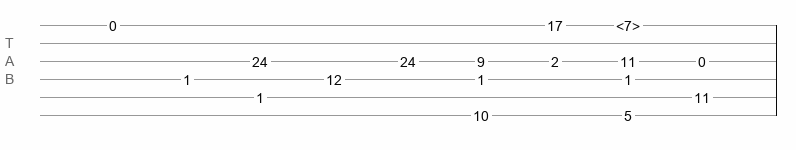0: (109, 18, 117, 28), (698, 54, 706, 64)
1: (183, 72, 191, 82), (256, 90, 264, 100), (477, 72, 485, 82), (624, 72, 632, 82)
10: (473, 108, 489, 118)
11: (620, 54, 636, 64), (694, 90, 710, 100)
12: (326, 72, 342, 82)
17: (547, 18, 563, 28)
2: (551, 54, 559, 64)
24: (252, 54, 268, 64), (400, 54, 416, 64)
5: (624, 108, 632, 118)
9: (477, 54, 485, 64)
harmonic: (616, 18, 640, 28)
